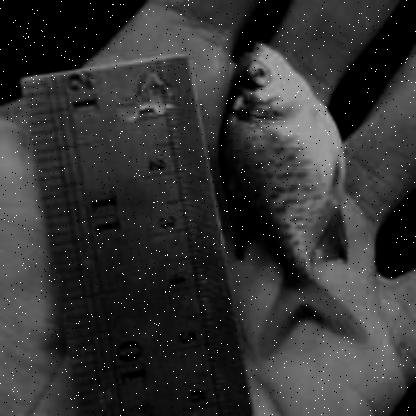ikan-pacu: (221, 39, 368, 353)
